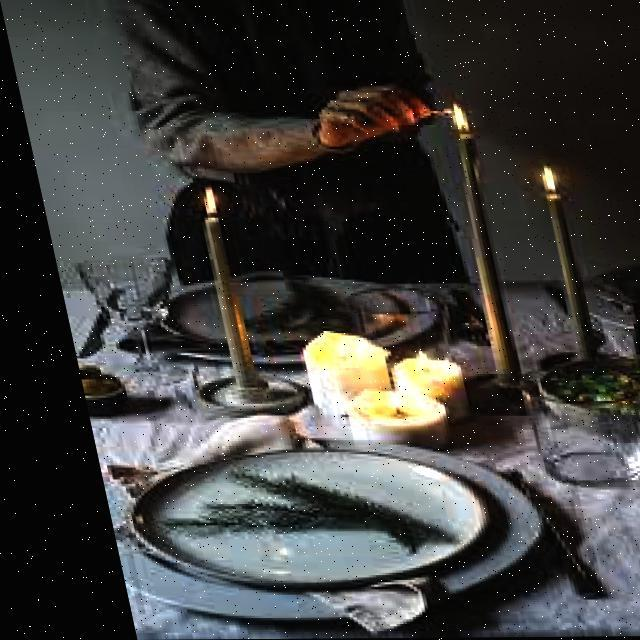Fire: (430, 95, 474, 135), (175, 180, 222, 216), (521, 158, 551, 192)
